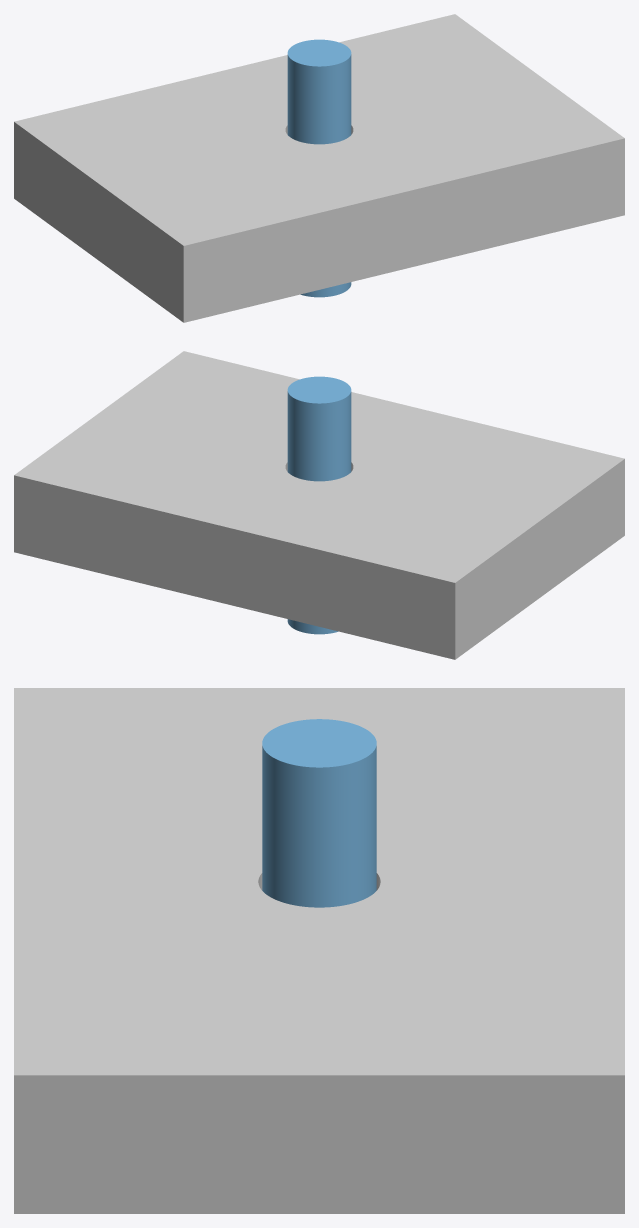
File: plaka_ve_gercek_yivli_pim.gltf
3 renders of one model, top to bottom at view 1: azimuth 30°, elevation 25°; view 2: azimuth 150°, elevation 25°; view 3: azimuth 270°, elevation 25°, orthographic. The views are drawn at different scales.
Visible parts, largest first — view 1: plaka_part, yivli_pim_part; view 2: plaka_part, yivli_pim_part; view 3: plaka_part, yivli_pim_part.
Part boxes in pixels (x1,y1,x2,y2): plaka_part: [14, 14, 624, 322]; yivli_pim_part: [287, 39, 351, 297]; plaka_part: [14, 351, 624, 659]; yivli_pim_part: [287, 376, 351, 634]; plaka_part: [14, 688, 624, 1213]; yivli_pim_part: [262, 719, 376, 907].
Bounding box in the file's own units: 60 × 30 × 40.
